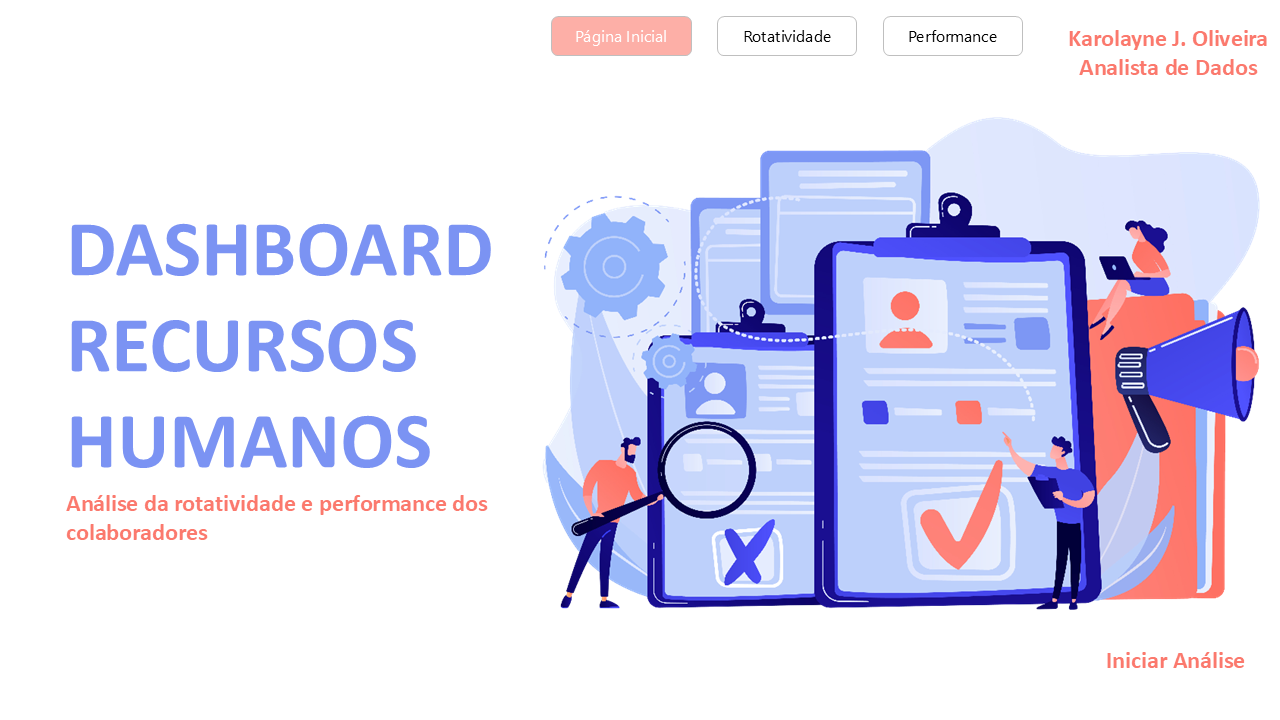

This screenshot's page, from the dashboard's own definition file:
{"tool":"powerbi","page":{"name":"Página Inicial","canvas":[1280,720],"ordinal":0},"visuals":[{"type":"actionButton","box":[1092.4,640.2,169.4,39.9],"z":0},{"type":"actionButton","box":[716.5,11.5,141.9,44.3],"z":1000},{"type":"actionButton","box":[883.2,11.5,141,44.3],"z":2000}]}

Visuals, with their boxes in screenshot pixels (x1, y1, x2, y2), scaled from the page's 1280x720 canvas onto the 1280x720 screenshot:
actionButton: bbox=[1092, 640, 1262, 680]
actionButton: bbox=[716, 12, 858, 56]
actionButton: bbox=[883, 12, 1024, 56]
